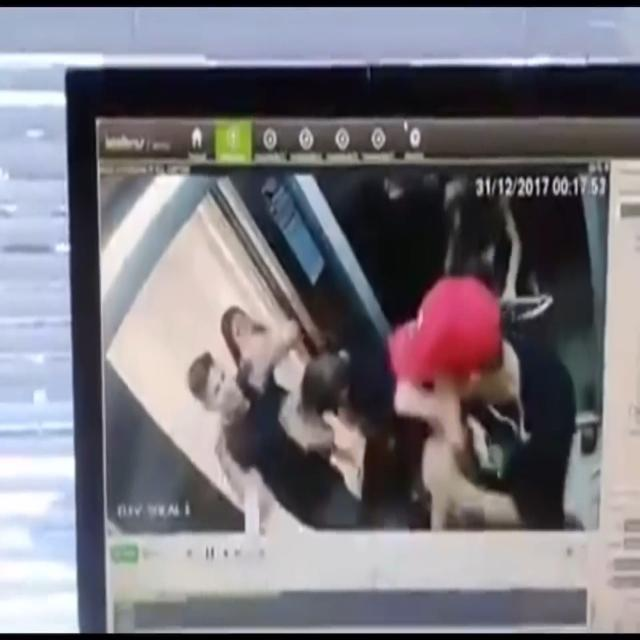fight: (259, 261, 589, 543)
